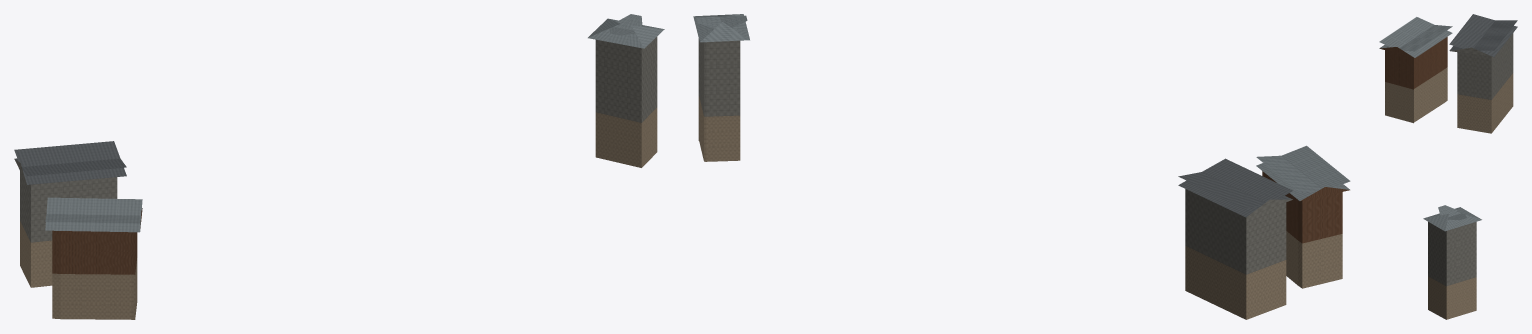
Rendered from bld_c28_-53_551.gltf.
The picture shows the model from 3 angles, left to right: view 1: azimuth 30°, elevation 25°; view 2: azimuth 150°, elevation 25°; view 3: azimuth 270°, elevation 25°; orthographic projection. The views are drawn at different scales.
Visible parts, largest first — view 1: bld_c28_-53_551; view 2: bld_c28_-53_551; view 3: bld_c28_-53_551.
Boxes of the visible parts, x1,y1,x2,y2 form: bld_c28_-53_551: (14,14,664,319); bld_c28_-53_551: (693,14,1350,319); bld_c28_-53_551: (1379,14,1517,319).
Bounding box in the file's own units: 75.48 × 15 × 19.12.
Materials: 7 (7 with a texture image).
